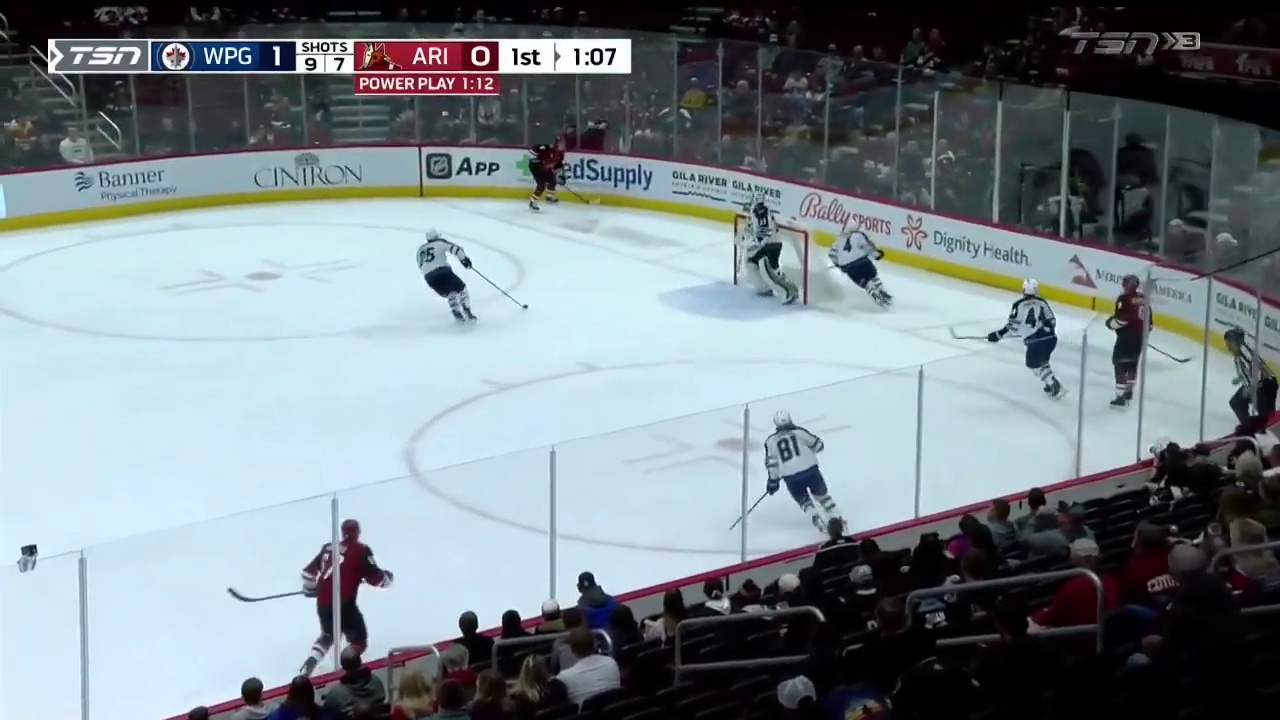hockeyplayer: (298, 519, 393, 679), (764, 410, 848, 534), (988, 278, 1069, 402), (733, 191, 798, 305), (1104, 275, 1153, 410), (828, 218, 894, 310), (415, 229, 478, 324), (528, 135, 566, 213)
referee: (1223, 328, 1278, 424)
